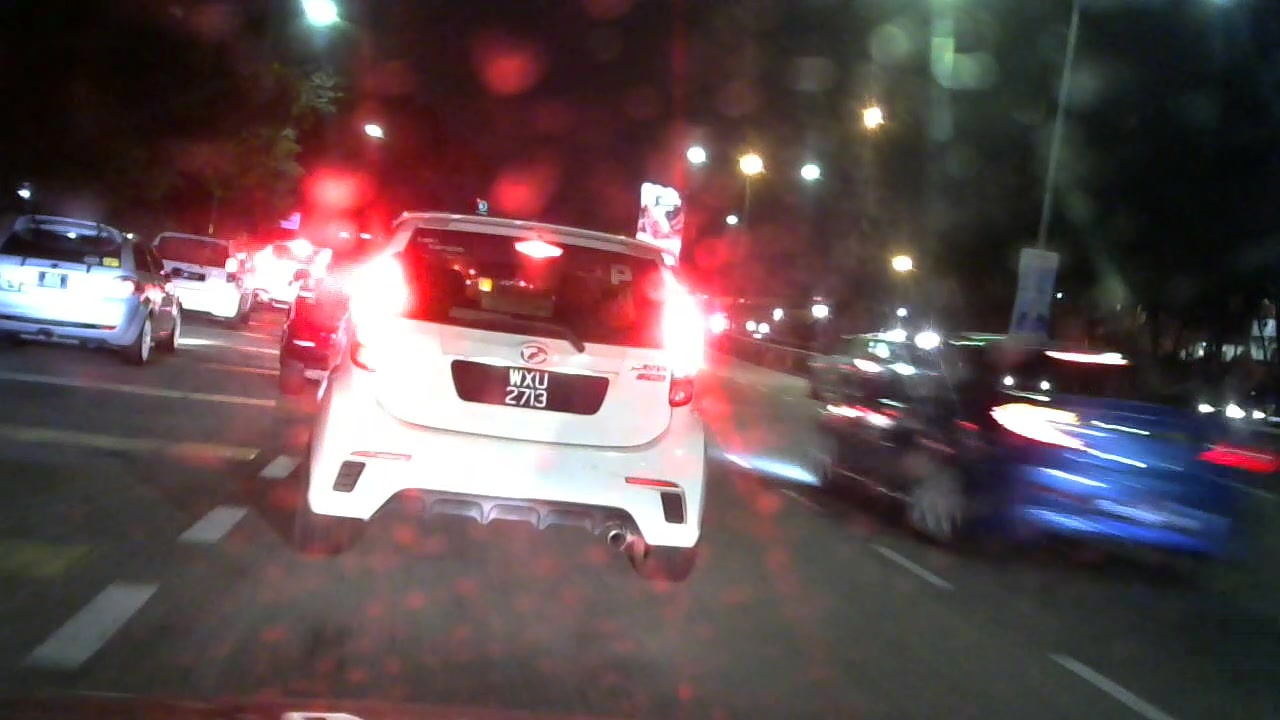Car: (330, 202, 714, 577), (796, 308, 1256, 587), (1, 204, 194, 365), (265, 235, 368, 393), (152, 226, 261, 315)
